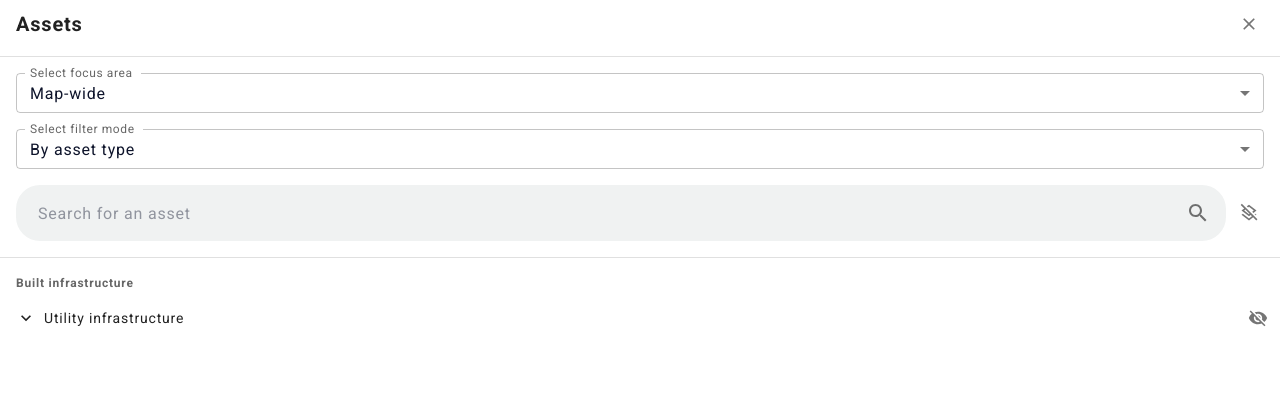
Test: AssetsView › Subcategory Expansion › expands subcategory when clicked
Click the button "Utility infrastructure" at (100, 318), box [16,308,184,328]
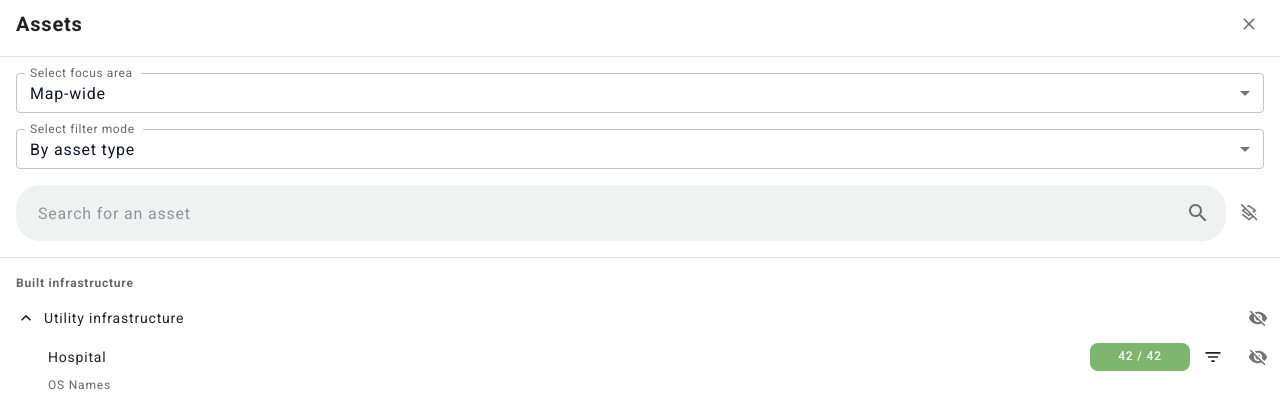
Now the text "Hospital" is shown, box [48,349,106,365]
Now the text "42 / 42" is shown, box [1118,347,1162,367]
